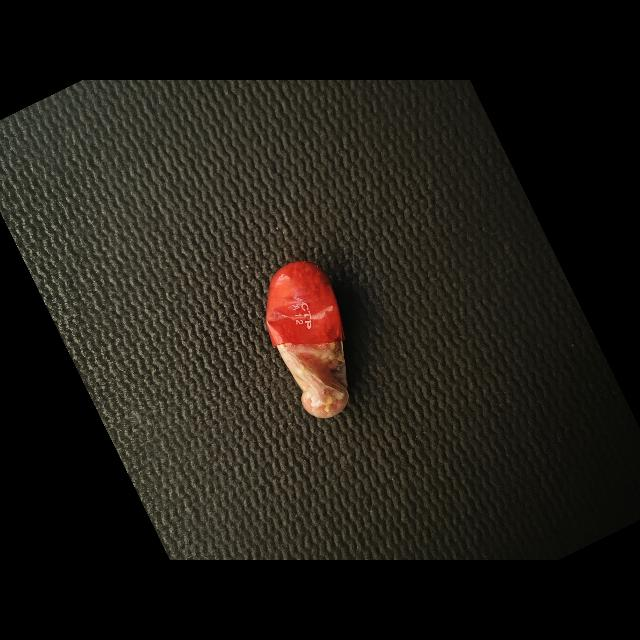Defective Capsule: (266, 261, 349, 418)
